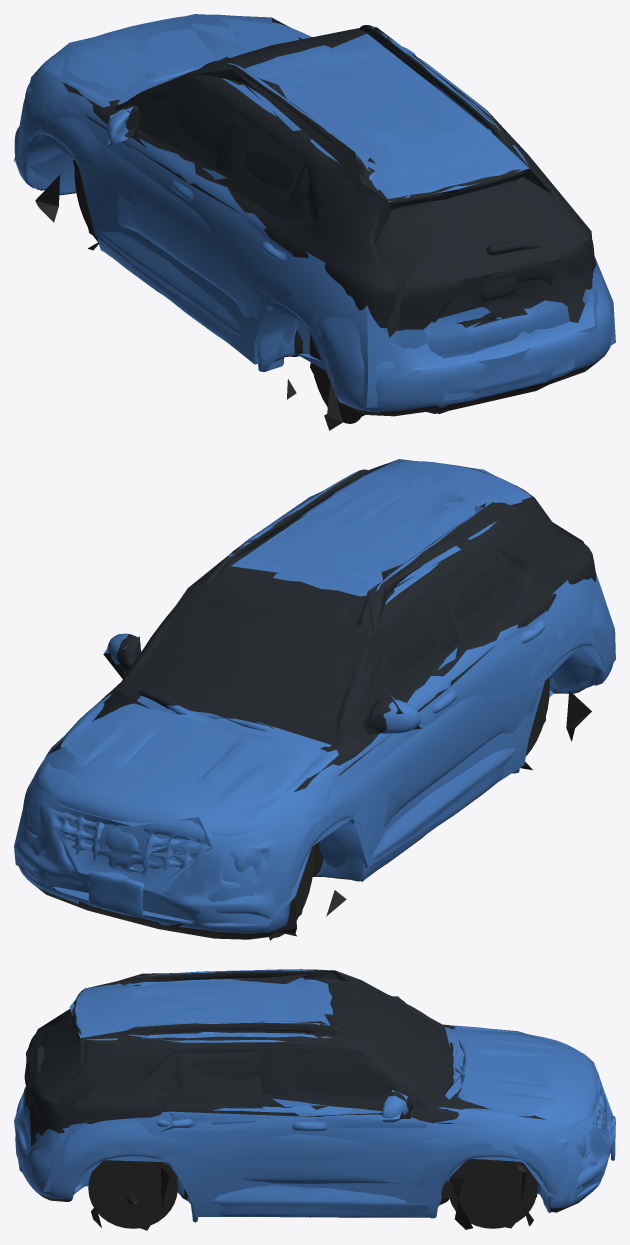
Rendered from hyundai-venue.glb.
3 renders of one model, top to bottom at view 1: azimuth 30°, elevation 25°; view 2: azimuth 150°, elevation 25°; view 3: azimuth 270°, elevation 25°, orthographic. The views are drawn at different scales.
Visible parts, largest first — view 1: body, far; view 2: body, far; view 3: body, far.
Part boxes in pixels (left/top/right/bottom): body: left=14, top=14, right=612, bottom=425; far: left=14, top=14, right=615, bottom=430; body: left=16, top=460, right=614, bottom=939; far: left=14, top=459, right=615, bottom=940; body: left=15, top=969, right=615, bottom=1229; far: left=14, top=970, right=613, bottom=1230.
Size of the model in its own units: 1.85 by 1.5 by 4.04.
